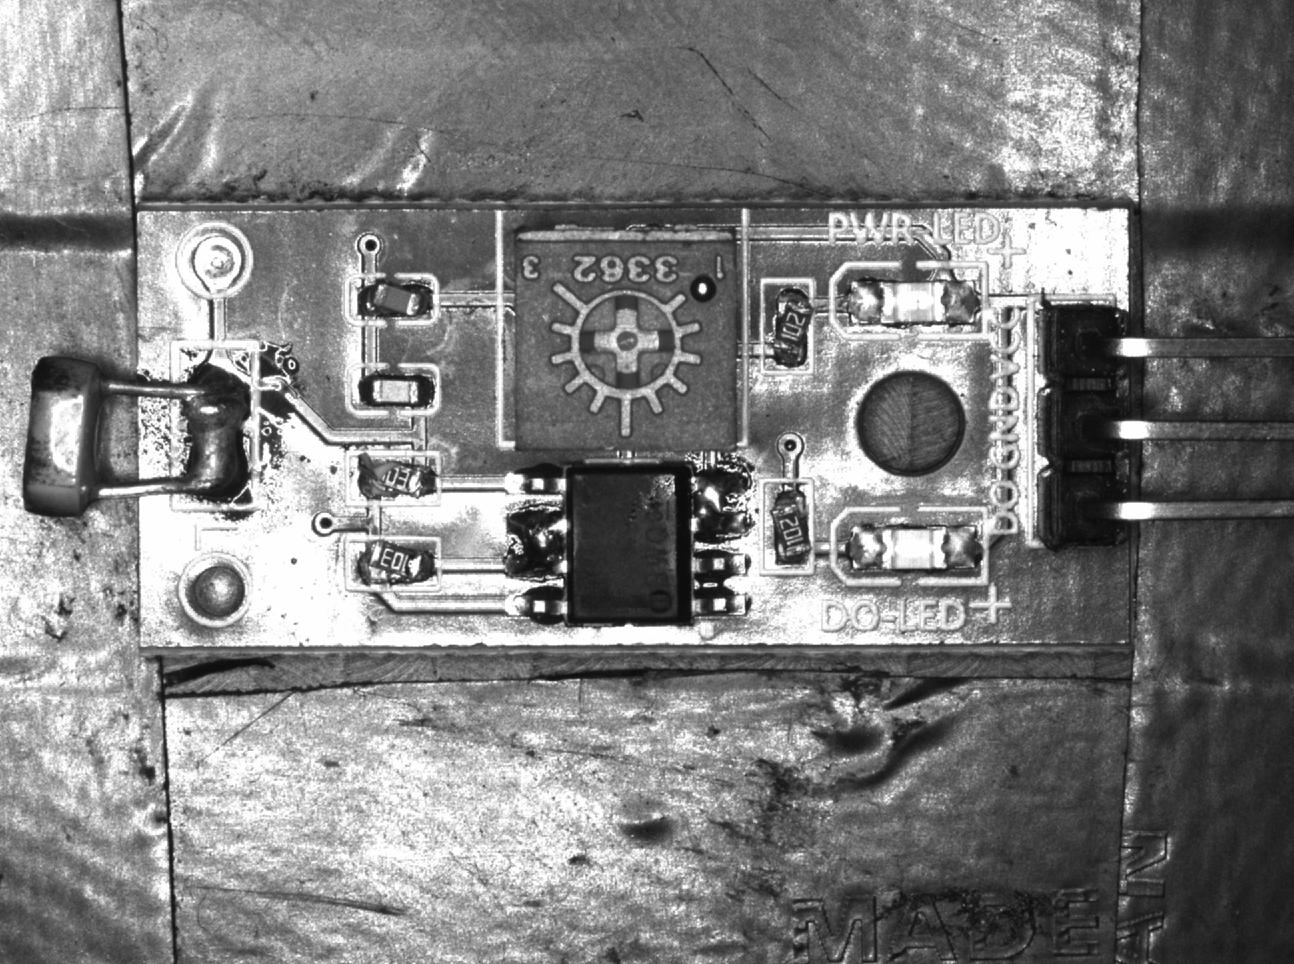bridge: (180, 340, 255, 508), (688, 461, 750, 551), (504, 504, 566, 591)
lifted: (341, 535, 442, 593), (342, 450, 442, 507), (758, 275, 814, 375), (762, 480, 816, 575), (347, 274, 440, 325)
ok: (346, 363, 442, 414)
